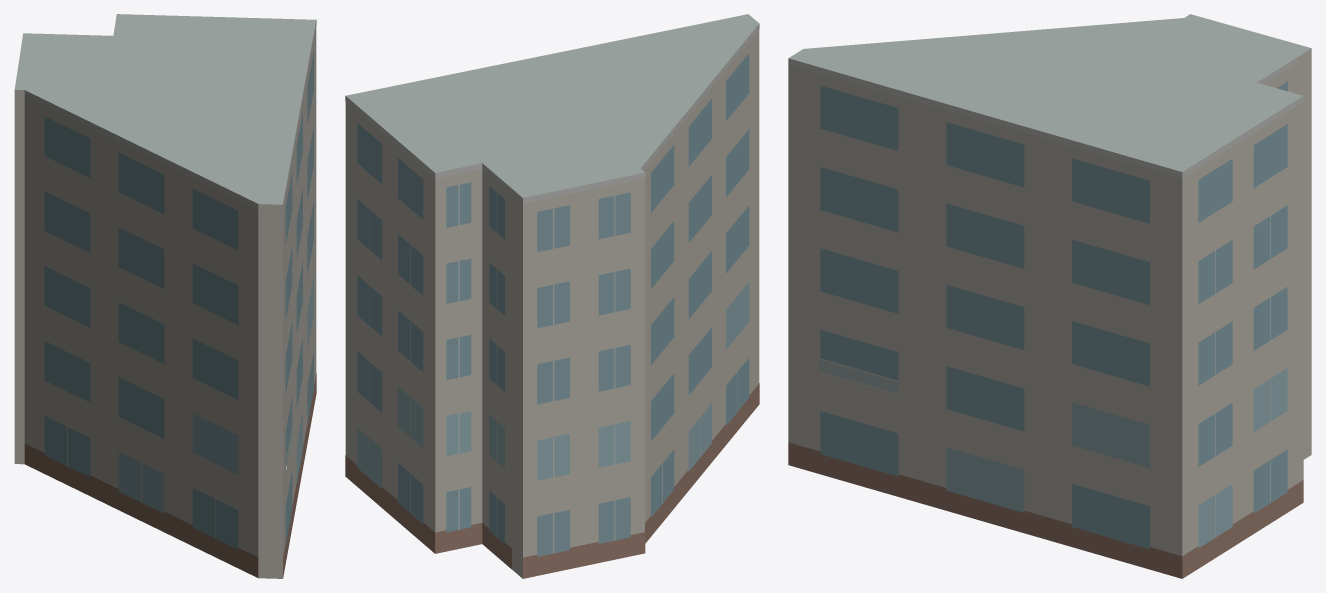
Rendered from survey-upis-32637042.glb.
3 views of the same model, side by side, from view 1: azimuth 30°, elevation 25°; view 2: azimuth 150°, elevation 25°; view 3: azimuth 270°, elevation 25° (orthographic). The views are drawn at different scales.
Visible parts, largest first — view 1: survey-upis-32637042.tmp; view 2: survey-upis-32637042.tmp; view 3: survey-upis-32637042.tmp.
Part boxes in pixels (x1,y1,x2,y2): survey-upis-32637042.tmp: (14, 14, 316, 578); survey-upis-32637042.tmp: (345, 14, 759, 578); survey-upis-32637042.tmp: (788, 14, 1311, 578).
Size of the model in its own units: 13.34 by 16 by 18.66.
